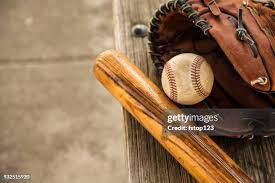baseball bat: (92, 47, 256, 183)
